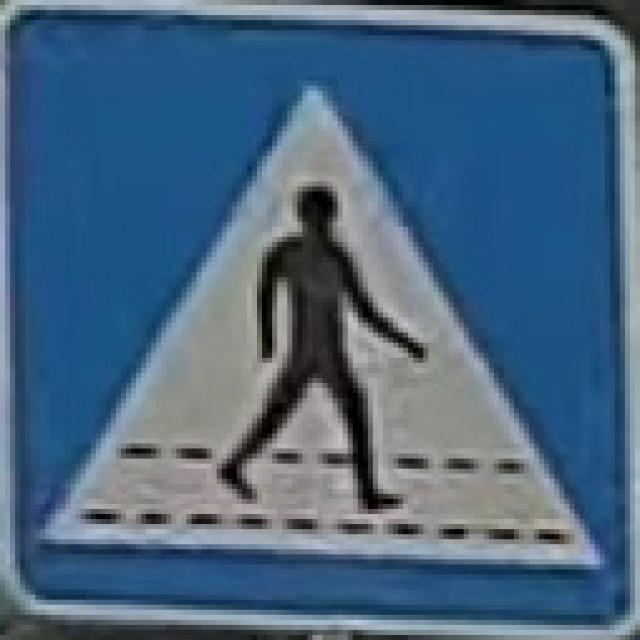zebracrossing_sign: (0, 0, 635, 635)
